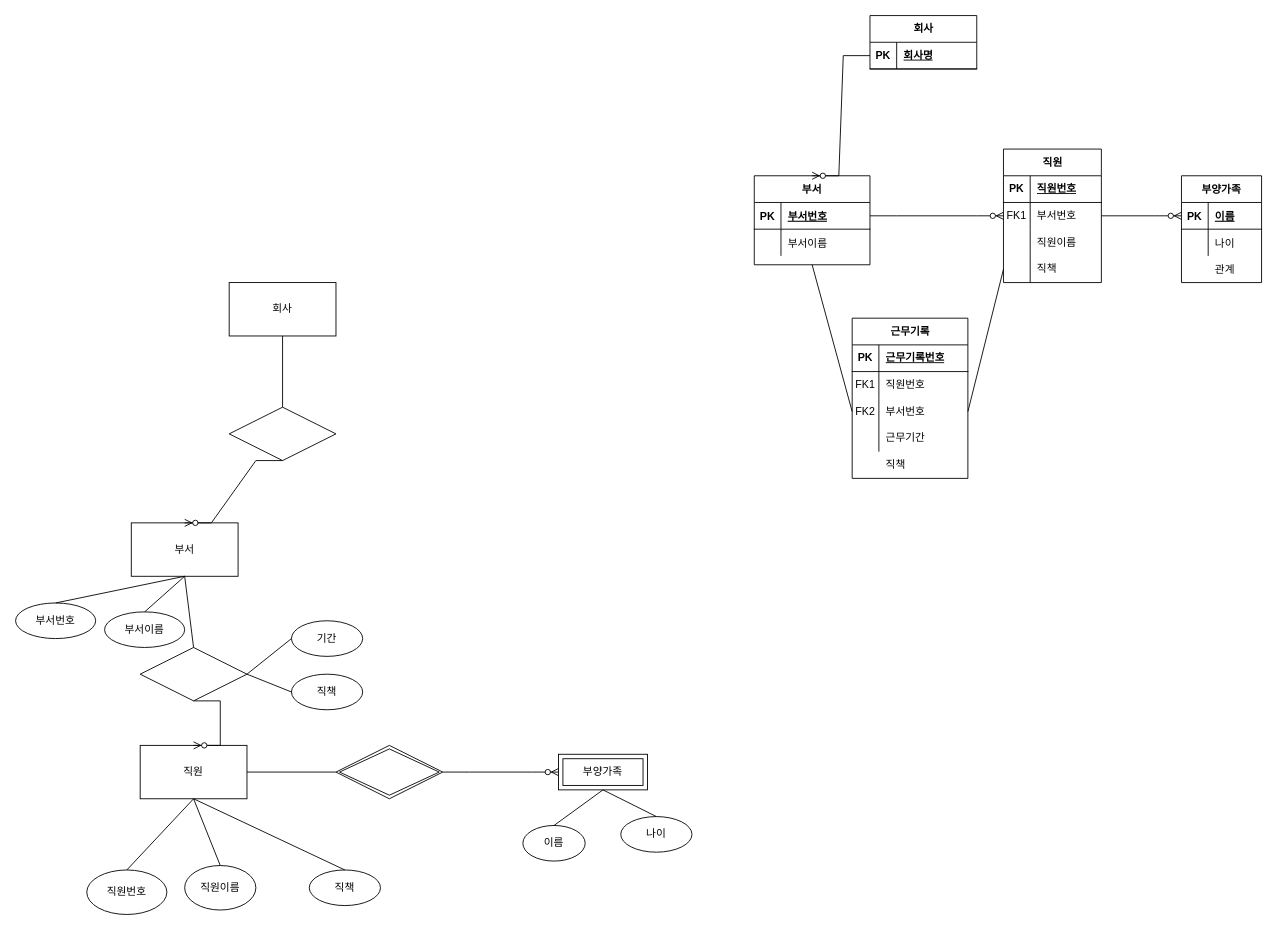
This 1277x930 diagram has some shape labels left out. The shapes that lost their labels are listed below. From the top down, each one's centre as x and y in pixels, then its label:
the point at 282,433: 운영
the point at 193,674: 근무
the point at 389,771: 부양
